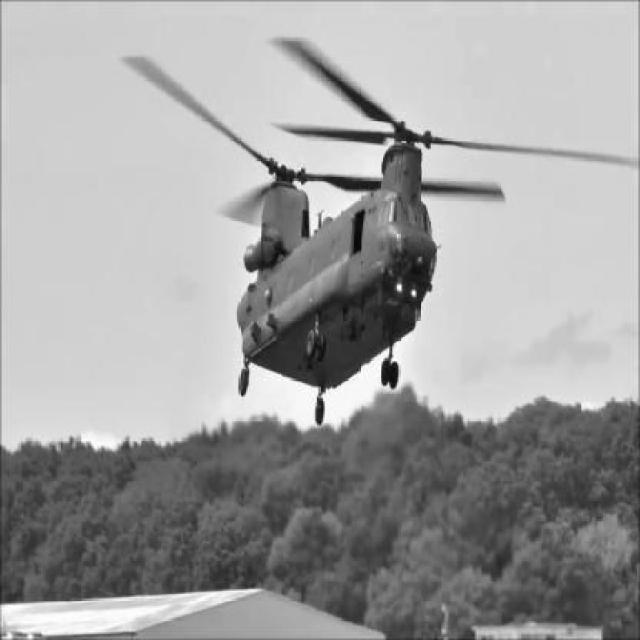Helicopter: (119, 34, 640, 430)
